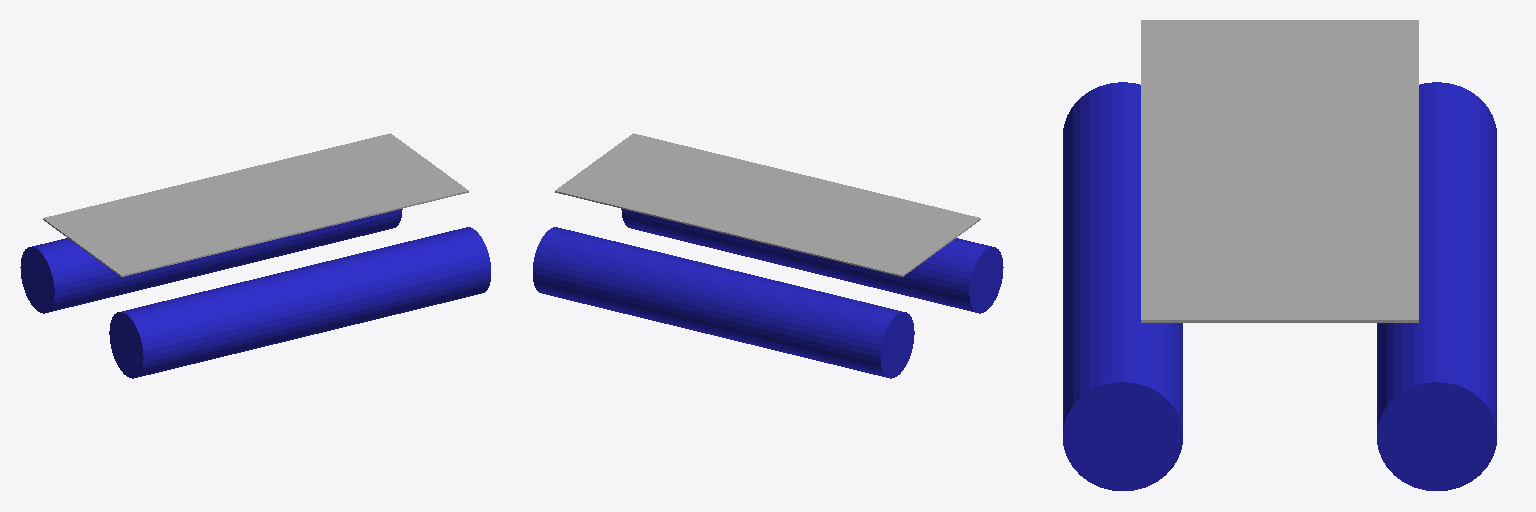
robot.urdf — catamaran_ros:
<?xml version="1.0"?>
<robot name="catamaran_ros">

  <!-- Deck: a very thin box, acting as a 2D bridge -->
  <link name="deck">
    <visual>
      <geometry>
        <box size="2.35 0.92 0.01"/>
      </geometry>
      <origin xyz="0 0 0.21" rpy="0 0 0"/>
      <material name="Gray">
        <color rgba="0.7 0.7 0.7 1"/>
      </material>
    </visual>
    <collision>
      <geometry>
        <box size="2.35 0.92 0.01"/>
      </geometry>
      <origin xyz="0 0 0.21" rpy="0 0 0"/>
    </collision>
  </link>

  <!-- Left hull (full cylinder, approximating semi-cylinder) -->
  <link name="left_hull">
    <visual>
      <geometry>
        <cylinder length="2.35" radius="0.2"/>
      </geometry>
      <!-- Cylinder's axis is Z by default; rotate to X -->
      <origin xyz="0 0.26 0" rpy="0 1.5708 0"/>
      <material name="Blue">
        <color rgba="0.2 0.2 0.8 1"/>
      </material>
    </visual>
    <collision>
      <geometry>
        <cylinder length="2.35" radius="0.2"/>
      </geometry>
      <origin xyz="0 0.26 0" rpy="0 1.5708 0"/>
    </collision>
  </link>

  <!-- Right hull (full cylinder, approximating semi-cylinder) -->
  <link name="right_hull">
    <visual>
      <geometry>
        <cylinder length="2.35" radius="0.2"/>
      </geometry>
      <origin xyz="0 -0.26 0" rpy="0 1.5708 0"/>
      <material name="Blue">
        <color rgba="0.2 0.2 0.8 1"/>
      </material>
    </visual>
    <collision>
      <geometry>
        <cylinder length="2.35" radius="0.2"/>
      </geometry>
      <origin xyz="0 -0.26 0" rpy="0 1.5708 0"/>
    </collision>
  </link>

  <!-- Fixed joints: attach hulls to deck -->
  <joint name="left_hull_joint" type="fixed">
    <parent link="deck"/>
    <child link="left_hull"/>
    <origin xyz="0 0.26 -0.21" rpy="0 0 0"/>
  </joint>

  <joint name="right_hull_joint" type="fixed">
    <parent link="deck"/>
    <child link="right_hull"/>
    <origin xyz="0 -0.26 -0.21" rpy="0 0 0"/>
  </joint>

</robot>

--- What the picture shows (computed from the rendered views, not written in the file) ---
The picture shows the robot from 3 angles, left to right: view 1: azimuth 30°, elevation 25°; view 2: azimuth 150°, elevation 25°; view 3: azimuth 270°, elevation 25°; orthographic projection.
Robot: catamaran_ros — 3 links, 2 joints (2 fixed); root link deck; default pose: all joints at 0.
Visible links, largest first — view 1: deck, right_hull, left_hull; view 2: deck, left_hull, right_hull; view 3: deck, left_hull, right_hull.
Link boxes in pixels (left/top/right/bottom): deck: left=43, top=133, right=468, bottom=276; right_hull: left=109, top=227, right=490, bottom=378; left_hull: left=20, top=209, right=402, bottom=313; deck: left=555, top=133, right=980, bottom=276; left_hull: left=533, top=227, right=914, bottom=378; right_hull: left=621, top=209, right=1003, bottom=313; deck: left=1141, top=20, right=1418, bottom=322; left_hull: left=1377, top=82, right=1496, bottom=490; right_hull: left=1063, top=82, right=1182, bottom=490.
Size in the robot's own frame: 2.35 by 1.44 by 0.625 metres.
Geometry: primitives only (box / cylinder / sphere), no mesh files.
